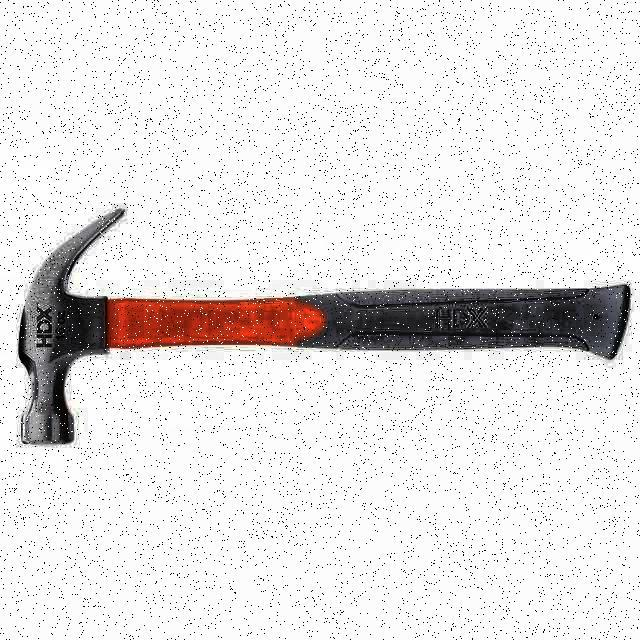hammer: (18, 207, 630, 447)
